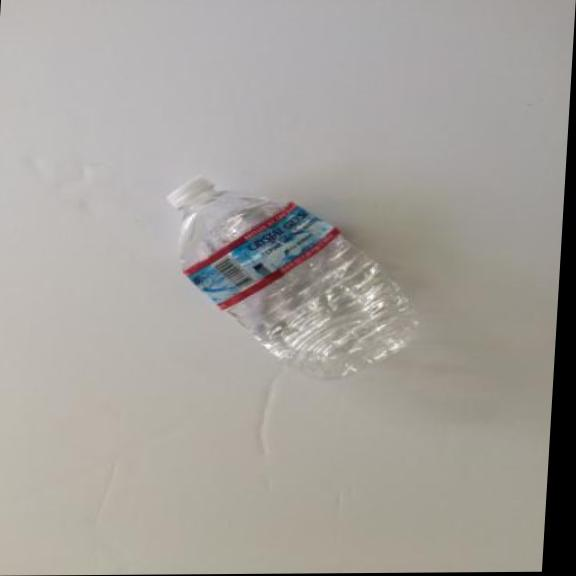Plastik: (122, 166, 437, 383)
